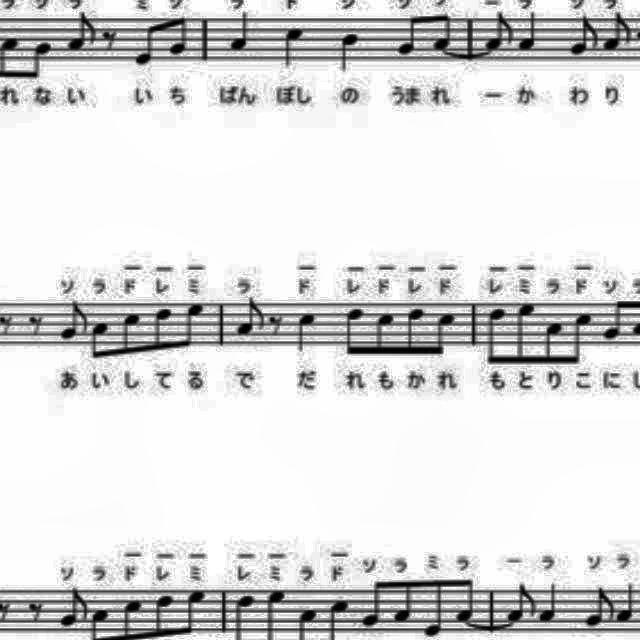Eighth-note: (598, 10, 636, 60), (232, 291, 268, 343), (420, 578, 450, 640), (478, 11, 520, 55), (514, 298, 538, 372), (483, 304, 509, 372), (181, 586, 213, 640), (62, 10, 98, 58), (126, 19, 162, 67), (567, 12, 601, 62), (22, 34, 56, 82), (358, 579, 387, 635), (584, 584, 616, 632), (58, 300, 94, 342), (600, 292, 628, 344), (392, 576, 418, 632), (572, 310, 596, 370), (391, 12, 421, 60), (506, 580, 538, 624), (58, 586, 90, 630), (451, 575, 479, 625), (151, 302, 177, 354), (343, 303, 365, 363), (541, 316, 565, 370), (428, 5, 454, 54), (120, 308, 144, 359), (372, 308, 396, 359), (434, 308, 458, 358), (166, 15, 190, 64), (405, 306, 427, 358), (88, 317, 112, 363), (152, 592, 175, 640), (184, 299, 206, 349)
Eighth-rest: (25, 306, 47, 344), (267, 310, 287, 346), (26, 594, 48, 626), (100, 24, 120, 56)
Quarter-note: (514, 7, 546, 58), (333, 26, 362, 78), (223, 10, 257, 54), (536, 578, 564, 630), (263, 586, 289, 640), (232, 590, 260, 640), (293, 308, 319, 360), (276, 26, 306, 70), (324, 595, 351, 640), (614, 582, 636, 626)
